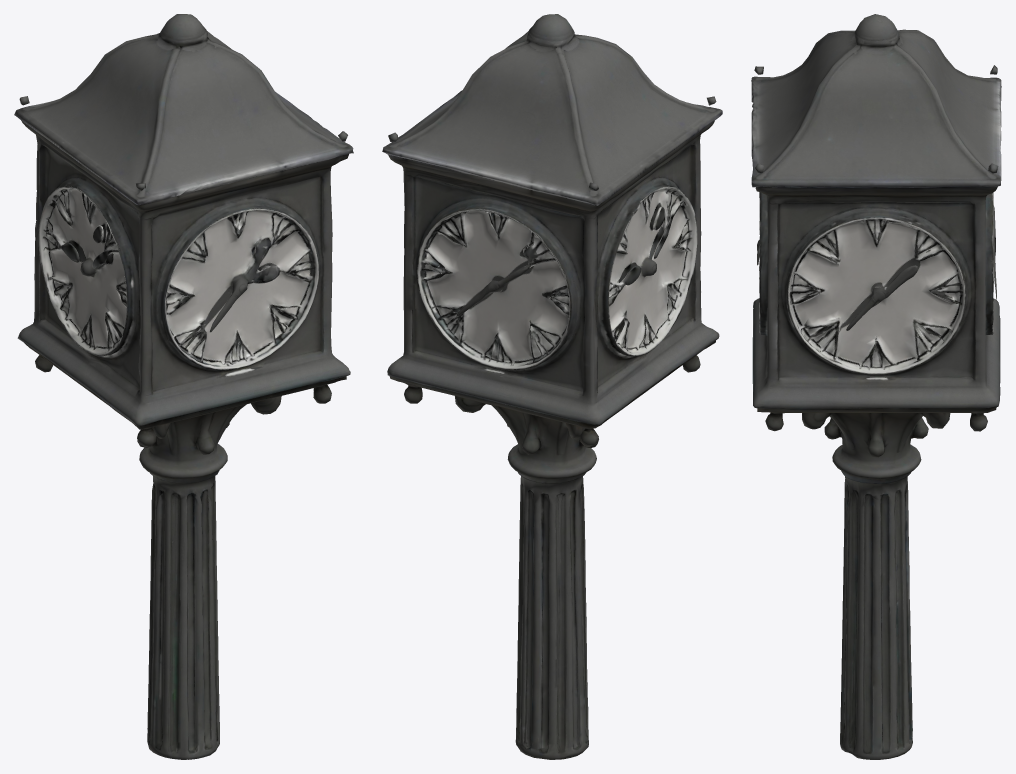
File: clockLength.fbx
The picture shows the model from 3 angles, left to right: view 1: azimuth 30°, elevation 25°; view 2: azimuth 150°, elevation 25°; view 3: azimuth 270°, elevation 25°; orthographic projection.
Visible parts, largest first — view 1: tripo_node_a9ea1768; view 2: tripo_node_a9ea1768; view 3: tripo_node_a9ea1768.
Boxes of the visible parts, box(x1,y1,x2,y2) form: tripo_node_a9ea1768: box(14, 14, 353, 759); tripo_node_a9ea1768: box(382, 14, 722, 759); tripo_node_a9ea1768: box(751, 14, 1001, 759).
Bounding box in the file's own units: 0.3108 × 0.9998 × 0.3102.
1 material, 1 textured.
